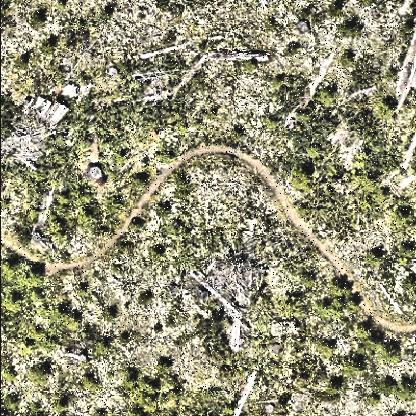tree-top: (291, 169, 317, 196), (375, 96, 401, 122), (383, 341, 404, 368), (330, 276, 354, 299), (379, 377, 401, 400), (363, 250, 385, 272), (344, 356, 366, 378), (4, 292, 25, 314), (338, 22, 362, 40), (153, 199, 175, 218), (132, 173, 150, 196), (158, 355, 178, 375), (321, 86, 340, 106), (394, 208, 412, 226), (15, 58, 33, 75), (31, 13, 47, 31), (320, 339, 338, 355), (105, 306, 121, 324)
